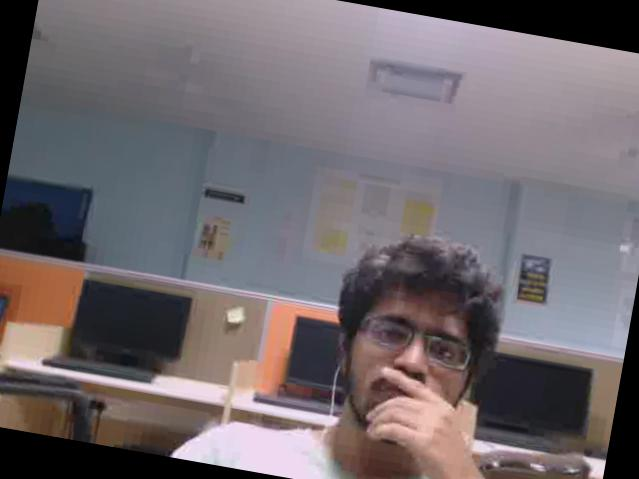bingung: (341, 278, 477, 439)
